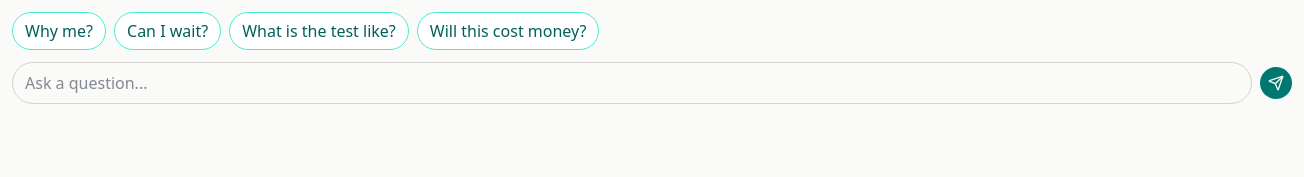
Scenario: AssistantBox › shows the scripted answer when a chip is tapped
The width and height of the screenshot is (1304, 177).
Click the button "Why me?" at (59, 31), box [12, 12, 106, 50]
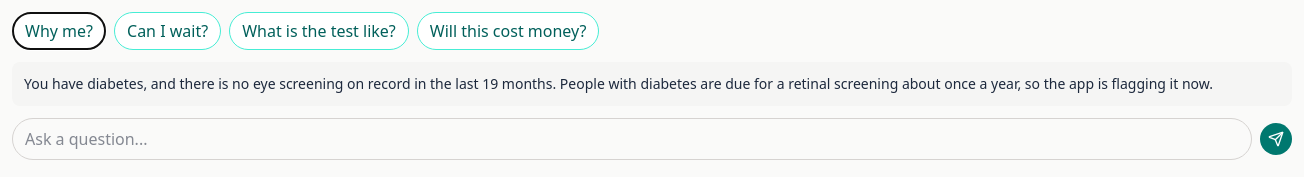
Check: the text "You have diabetes, and there is no eye screening on record in the last 19 months. People with diabetes are due for a ret" is shown, box [24, 74, 1213, 93]
